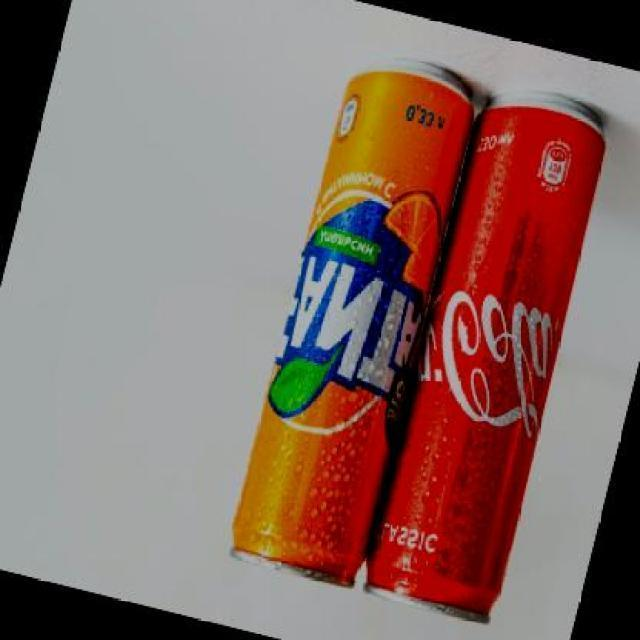metal-can: (224, 60, 484, 592), (360, 92, 610, 628)
